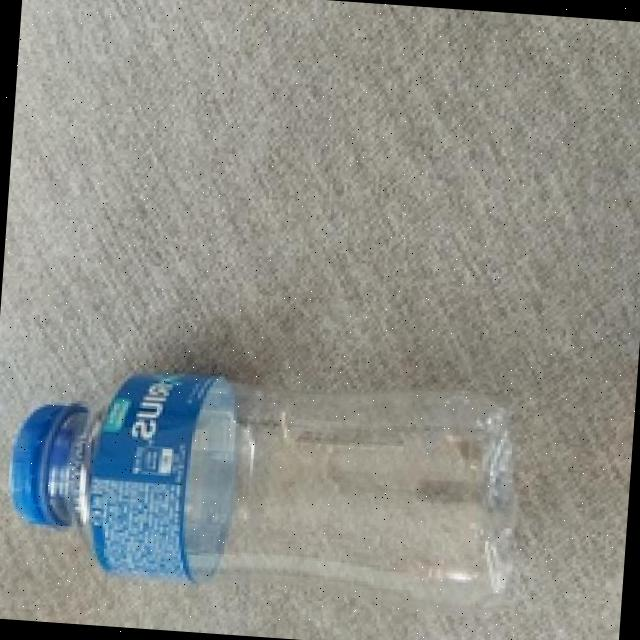bottle: (1, 332, 555, 614)
label: (69, 358, 238, 591)
